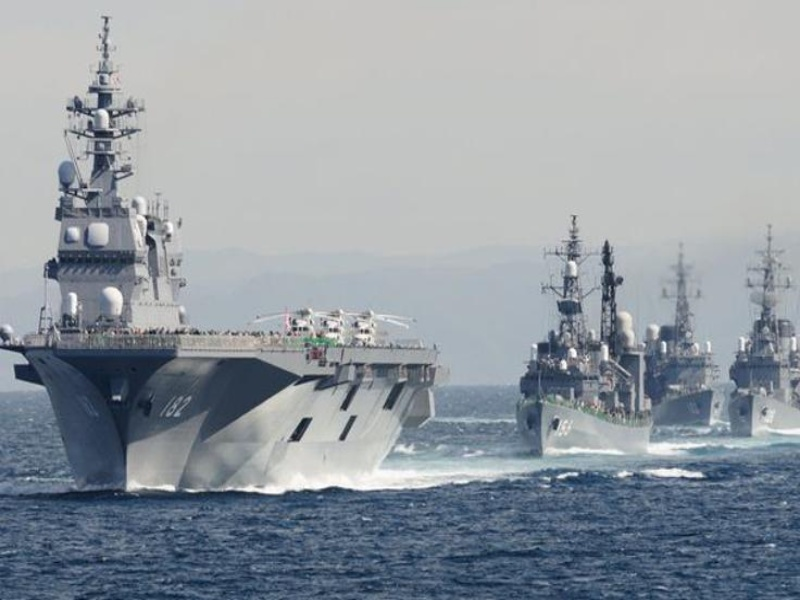carrier: (35, 77, 419, 487)
cruise: (519, 236, 648, 454), (644, 239, 724, 437), (729, 233, 799, 439)
